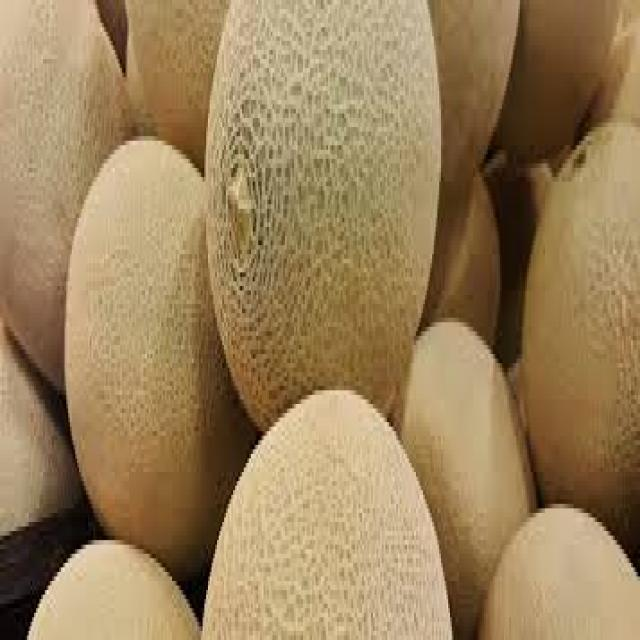melon: (204, 4, 443, 358), (68, 136, 212, 522)
